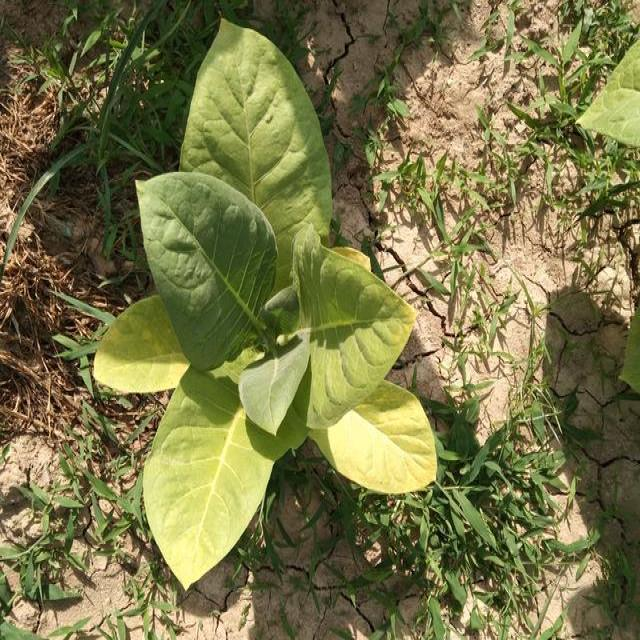crop: (89, 17, 427, 543)
